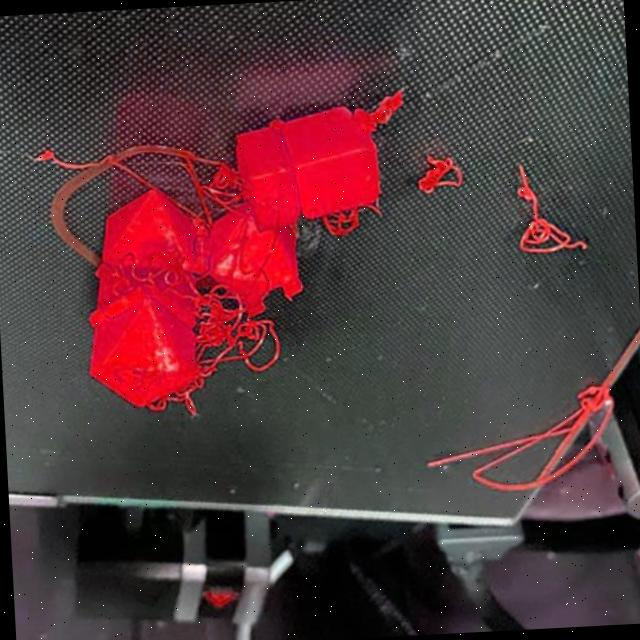spaghetti: (87, 245, 284, 422), (424, 384, 618, 495), (508, 161, 590, 259), (198, 163, 248, 222)
